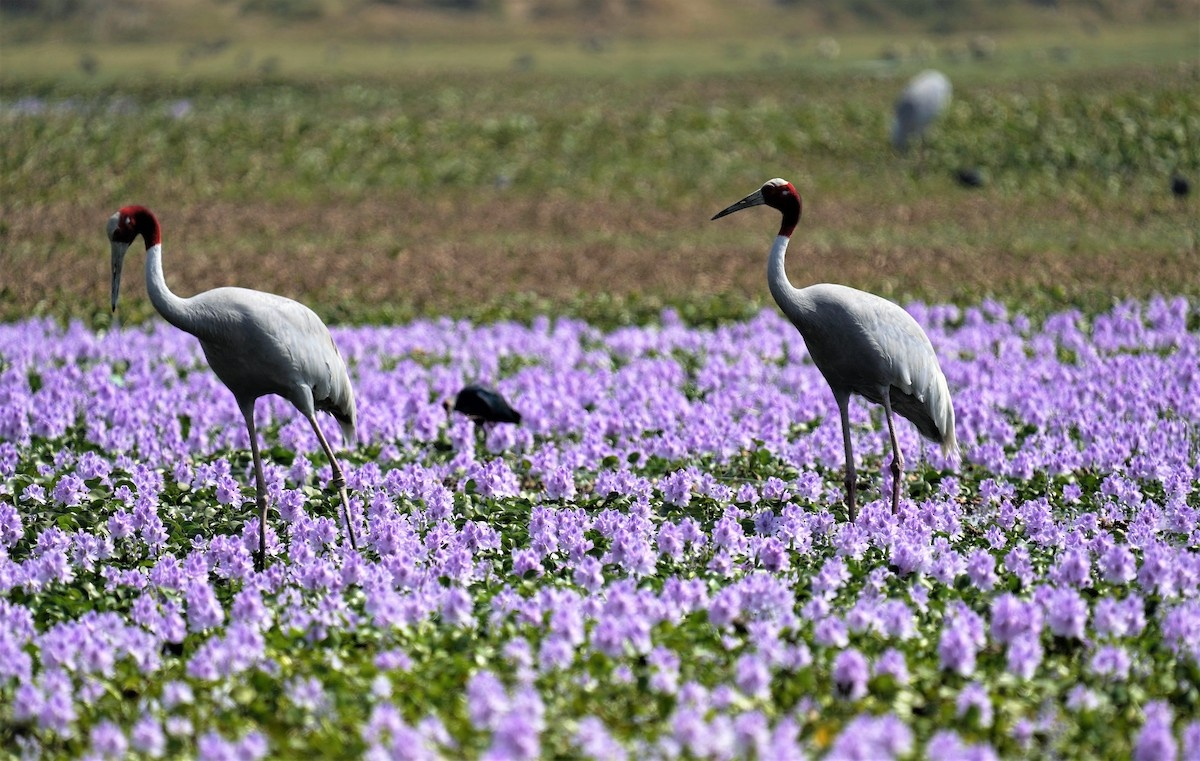crane: (99, 196, 383, 550), (710, 165, 984, 507)
